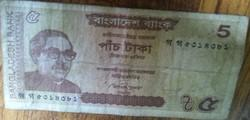5 taka: (4, 1, 230, 117)
